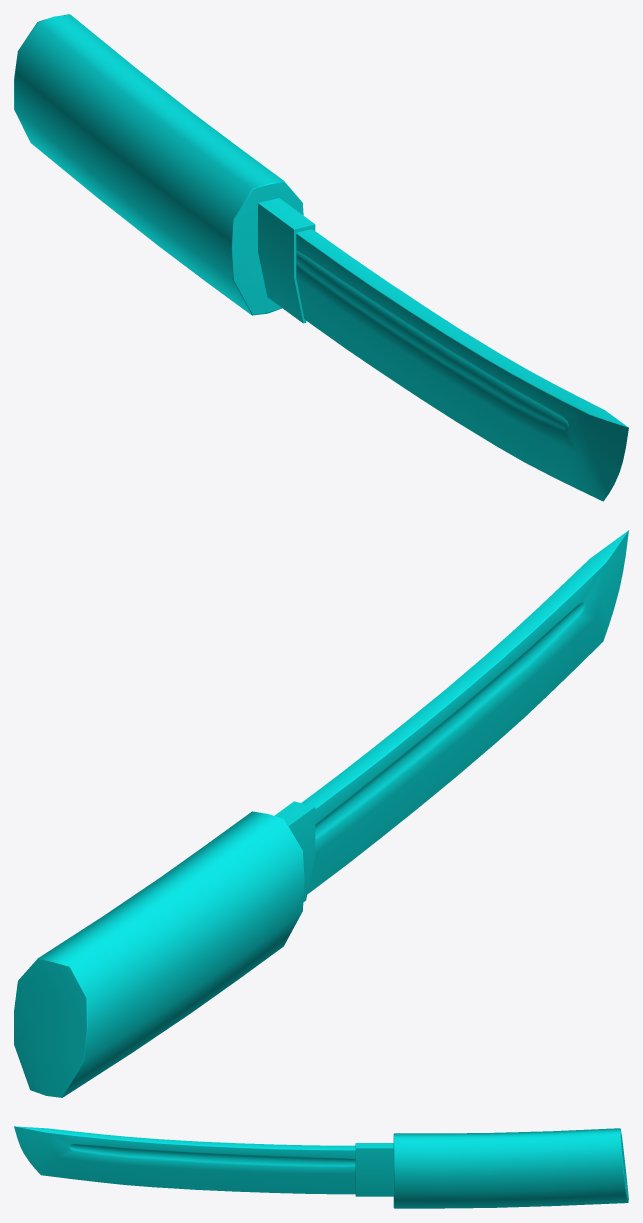
File: knife_tanto_01_low.fbx
The picture shows the model from 3 angles, top to bottom: view 1: azimuth 30°, elevation 25°; view 2: azimuth 150°, elevation 25°; view 3: azimuth 270°, elevation 25°; orthographic projection. The views are drawn at different scales.
Parts seen in each view (by area): view 1: knife_tanto_01_handle_low, knife_tanto_01_blade_low, knife_tanto_01_guard_low; view 2: knife_tanto_01_handle_low, knife_tanto_01_blade_low, knife_tanto_01_guard_low; view 3: knife_tanto_01_handle_low, knife_tanto_01_blade_low, knife_tanto_01_guard_low.
Part boxes in pixels (left/top/right/bottom): knife_tanto_01_handle_low: left=14, top=14, right=303, bottom=315; knife_tanto_01_blade_low: left=296, top=229, right=628, bottom=501; knife_tanto_01_guard_low: left=258, top=198, right=315, bottom=323; knife_tanto_01_handle_low: left=14, top=811, right=304, bottom=1097; knife_tanto_01_blade_low: left=301, top=530, right=628, bottom=894; knife_tanto_01_guard_low: left=274, top=801, right=315, bottom=902; knife_tanto_01_handle_low: left=393, top=1128, right=628, bottom=1208; knife_tanto_01_blade_low: left=14, top=1126, right=355, bottom=1194; knife_tanto_01_guard_low: left=355, top=1143, right=393, bottom=1196.
Size of the model in its own units: 2.33 by 4.55 by 32.03.
